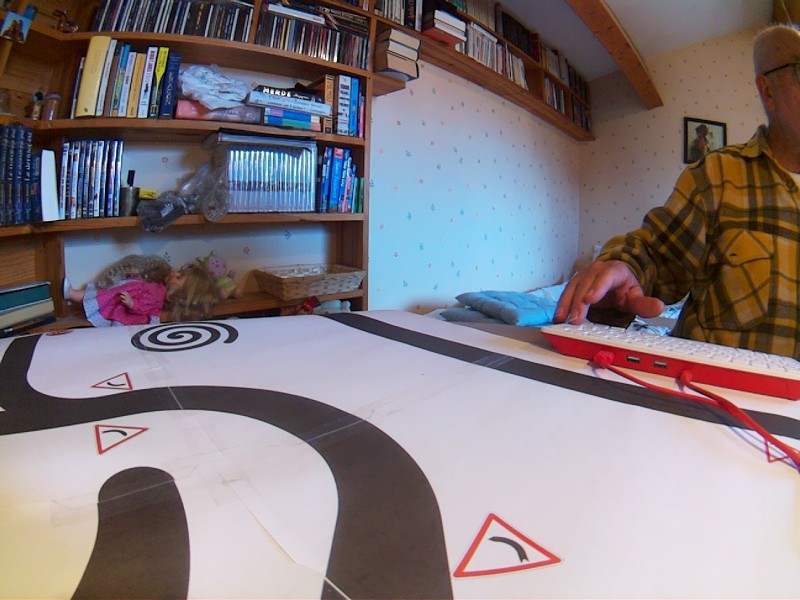leftPanel: (314, 498, 573, 593)
leftTurn: (311, 465, 455, 600)
nest: (129, 323, 240, 356)
